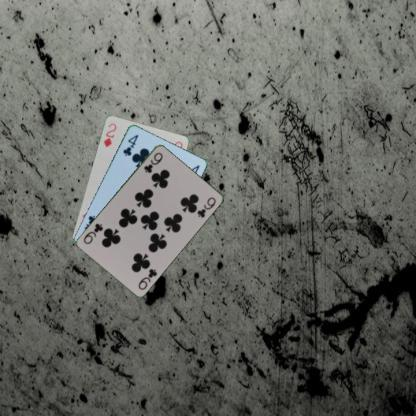2d: (101, 121, 117, 148)
4c: (120, 132, 140, 157)
9c: (142, 150, 164, 174), (136, 266, 158, 290)
